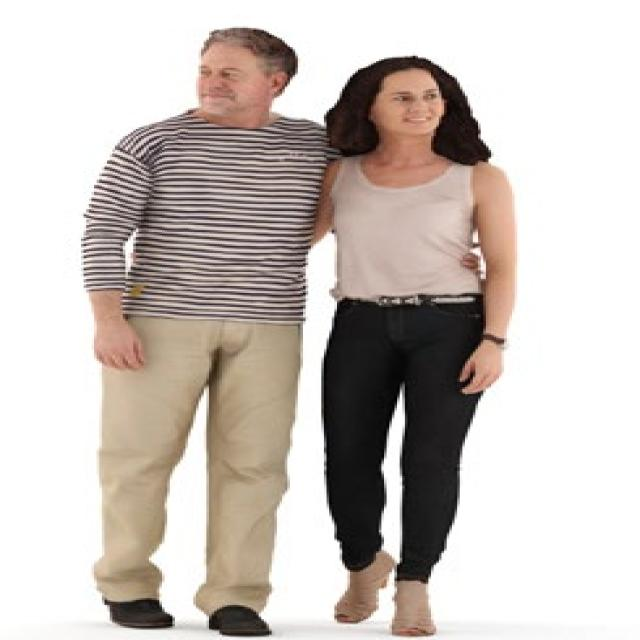standing: (84, 27, 318, 640), (316, 54, 525, 640)
